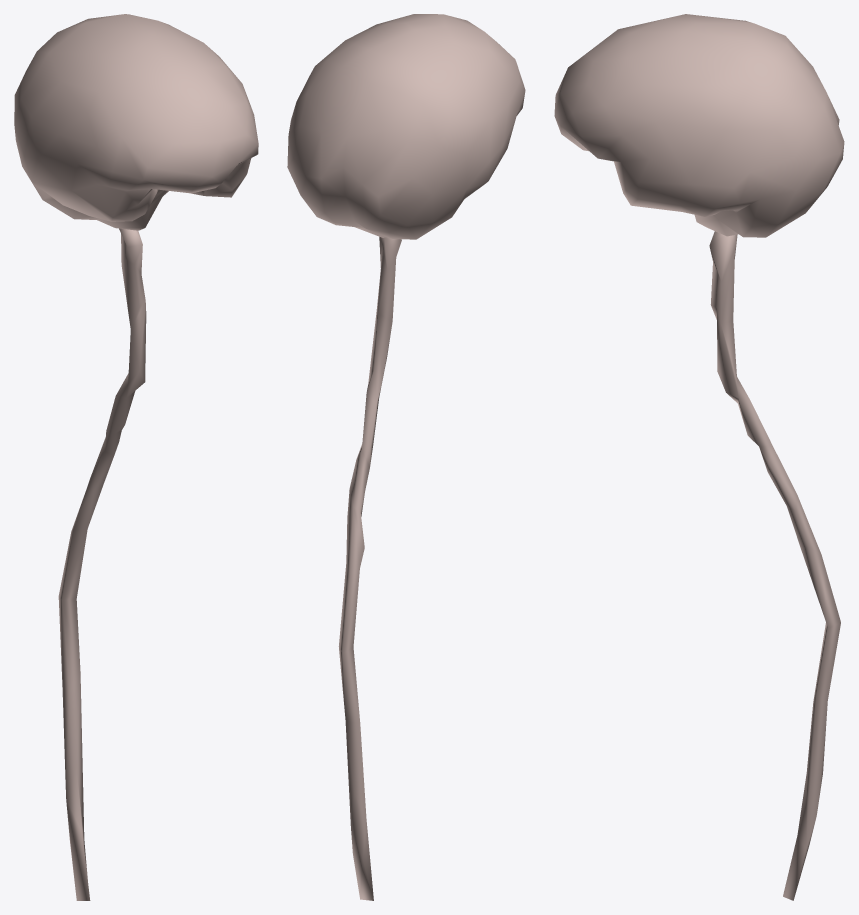
The model's file is icrp_adult_male.nervous.LOD3.glb.
The picture shows the model from 3 angles, left to right: view 1: azimuth 30°, elevation 25°; view 2: azimuth 150°, elevation 25°; view 3: azimuth 270°, elevation 25°; orthographic projection. The views are drawn at different scales.
Visible parts, largest first — view 1: ICRP.ADULT.MALE.NERVOUS.BRAIN, ICRP.ADULT.MALE.NERVOUS.SPINAL_CORD; view 2: ICRP.ADULT.MALE.NERVOUS.BRAIN, ICRP.ADULT.MALE.NERVOUS.SPINAL_CORD; view 3: ICRP.ADULT.MALE.NERVOUS.BRAIN, ICRP.ADULT.MALE.NERVOUS.SPINAL_CORD.
Part boxes in pixels (left/top/right/bottom): ICRP.ADULT.MALE.NERVOUS.BRAIN: left=14, top=14, right=258, bottom=230; ICRP.ADULT.MALE.NERVOUS.SPINAL_CORD: left=58, top=228, right=146, bottom=900; ICRP.ADULT.MALE.NERVOUS.BRAIN: left=287, top=14, right=525, bottom=239; ICRP.ADULT.MALE.NERVOUS.SPINAL_CORD: left=338, top=237, right=401, bottom=900; ICRP.ADULT.MALE.NERVOUS.BRAIN: left=554, top=14, right=844, bottom=237; ICRP.ADULT.MALE.NERVOUS.SPINAL_CORD: left=709, top=231, right=840, bottom=900.
Bounding box in the file's own units: 0.1389 × 0.5893 × 0.1774.
